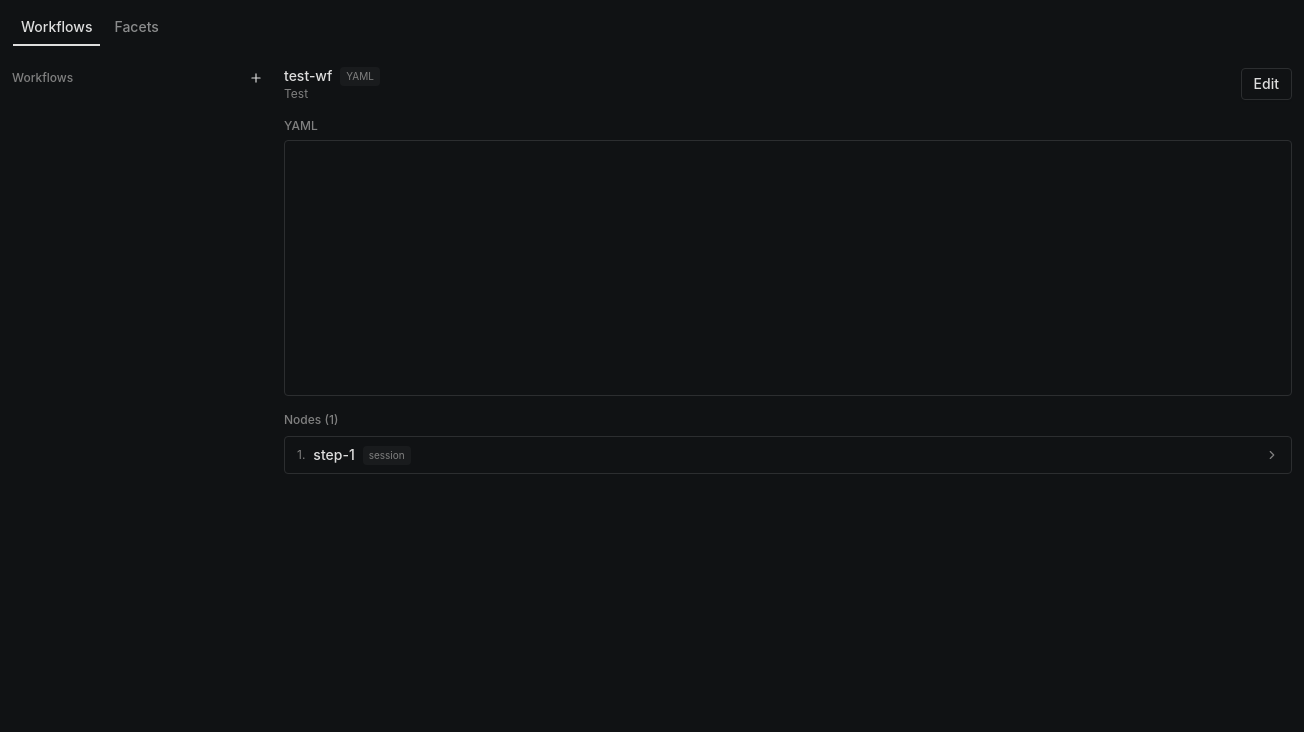
Test: AutomationSection › workflow detail Edit opens writable in-panel editor and surfaces save diagnostics
Click the button "Edit" at (1266, 84), box [1241,68,1292,100]
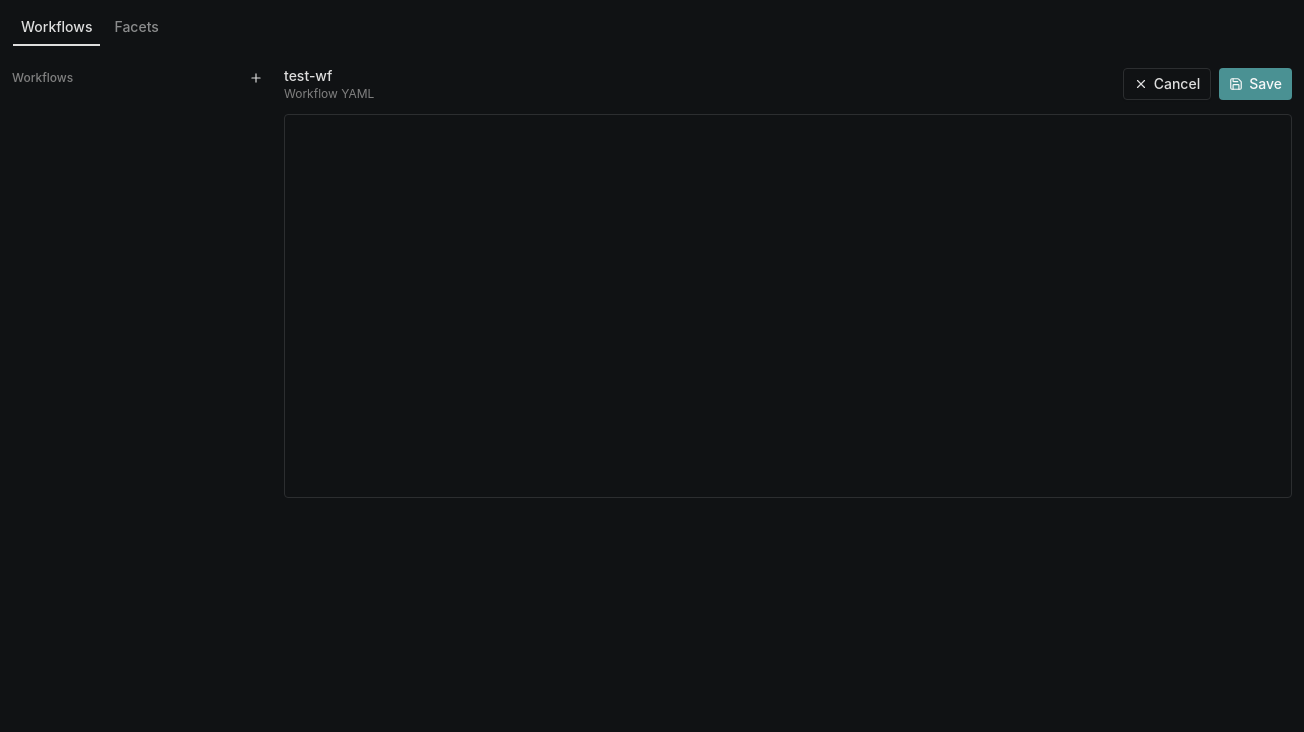
Result: the text "Workflow YAML" is shown at [284,86,374,102]
Click the button "Save" at (1256, 84), box [1219,68,1292,100]
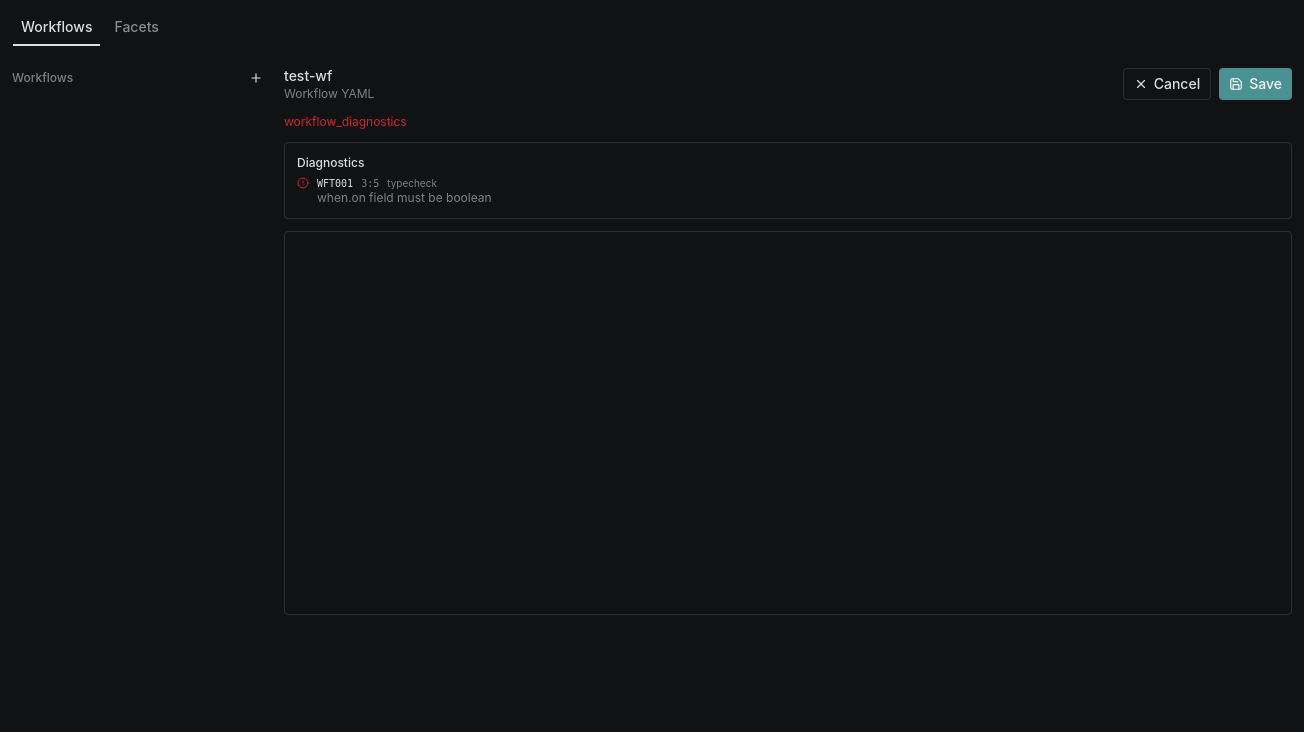
Result: the text "WFT001" is shown at [317,177,353,190]
Result: the text "when.on field must be boolean" is shown at [317,190,492,205]
